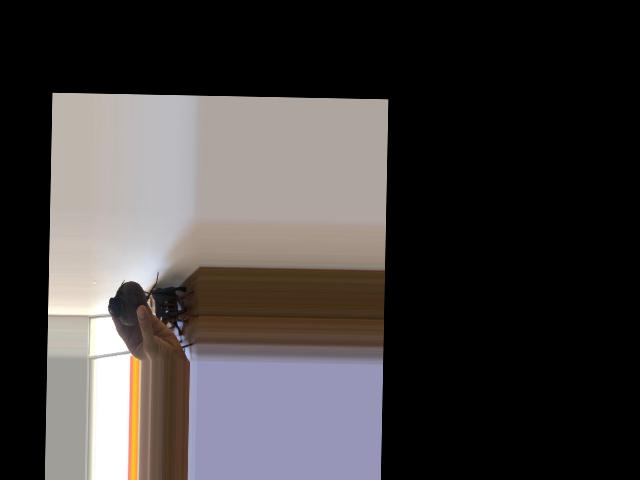beet: (107, 268, 159, 326)
